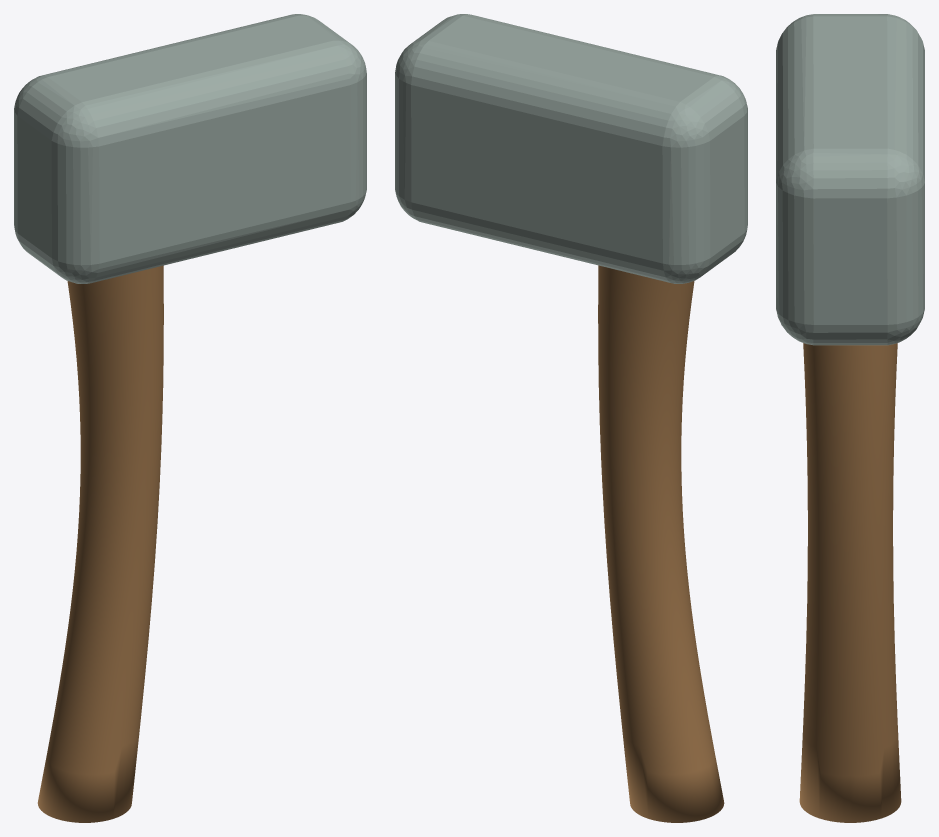
Rendered from reduced-3000.glb.
The picture shows the model from 3 angles, left to right: view 1: azimuth 30°, elevation 25°; view 2: azimuth 150°, elevation 25°; view 3: azimuth 270°, elevation 25°; orthographic projection. The views are drawn at different scales.
Parts seen in each view (by area): view 1: Cube.002, Handle.002; view 2: Cube.002, Handle.002; view 3: Cube.002, Handle.002.
Boxes of the visible parts, x1,y1,x2,y2 form: Cube.002: (14,14,366,283); Handle.002: (37,265,163,822); Cube.002: (395,14,747,283); Handle.002: (598,265,724,822); Cube.002: (776,14,924,345); Handle.002: (799,343,901,822).
Size of the model in its own units: 0.6491 by 1.43 by 0.2491.
